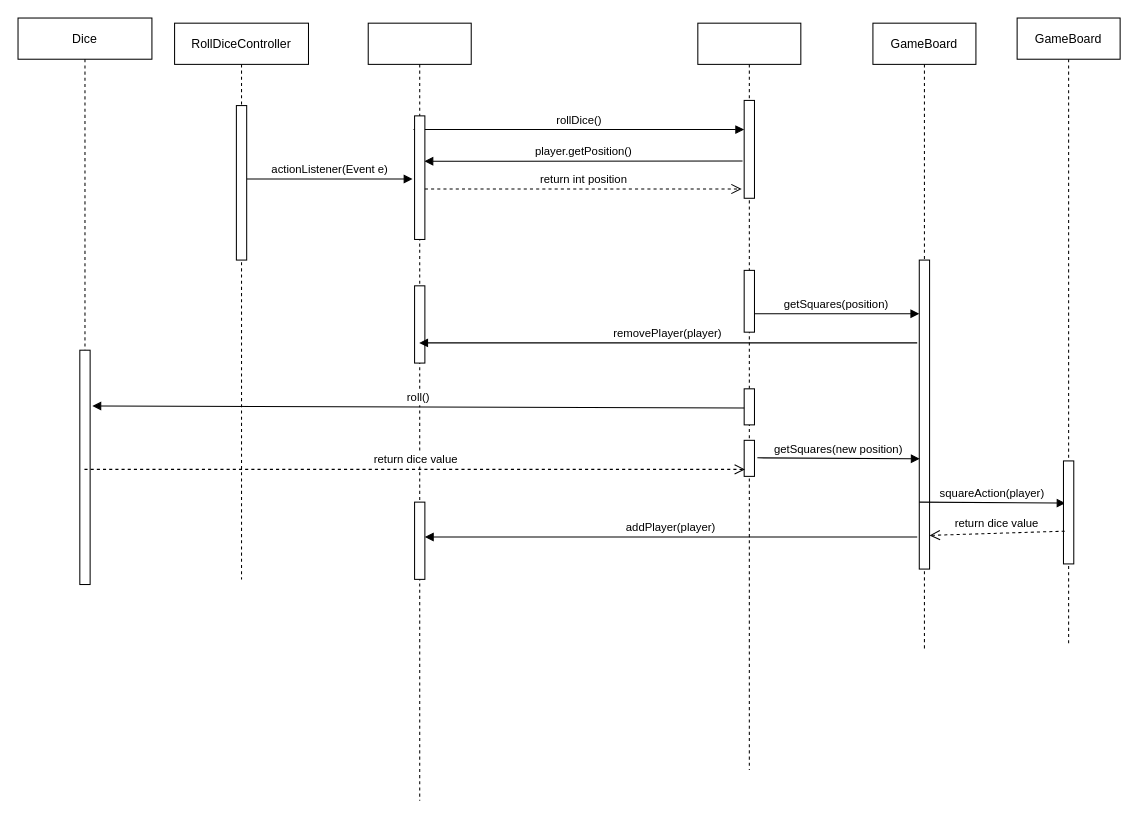
The diagram is 1138 pixels wide and 819 high, and some of its shapes have lost their labels. The shapes that lost their labels are listed below. From the top down, each one's box as (x1, y1, x2, y2) in pixels, then its label:
(367, 22, 471, 801): Player
(697, 22, 801, 770): Game
